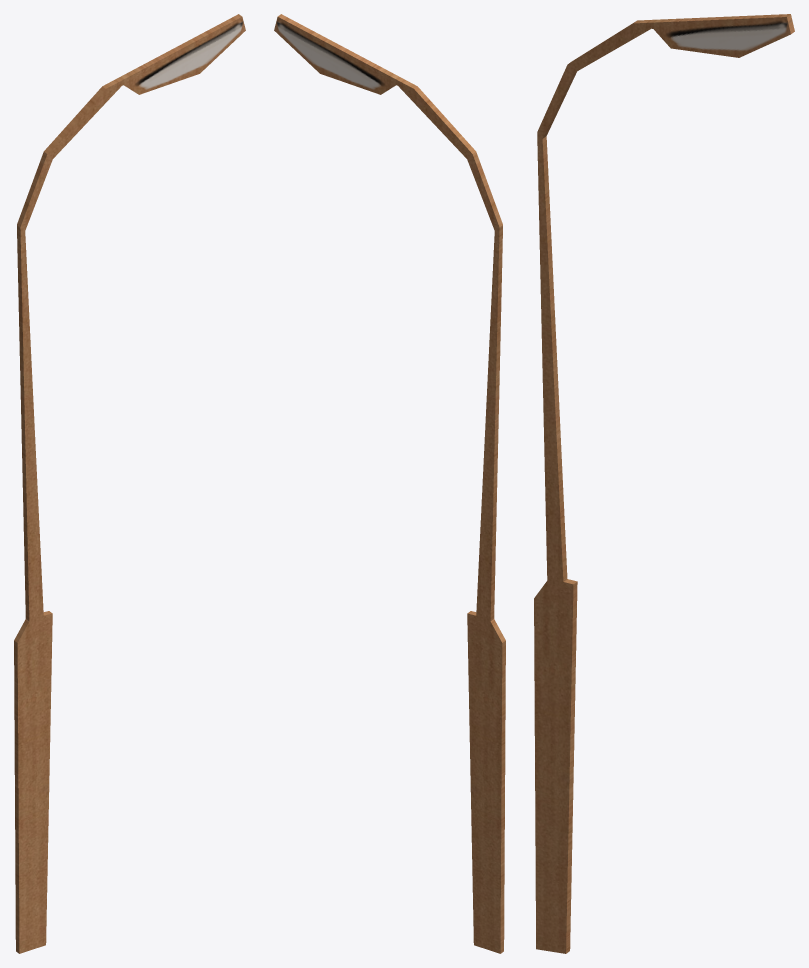
The model's file is lightpole.FBX.
3 renders of one model, left to right at view 1: azimuth 30°, elevation 25°; view 2: azimuth 150°, elevation 25°; view 3: azimuth 330°, elevation 25°, orthographic. The views are drawn at different scales.
Parts seen in each view (by area): view 1: lightpole; view 2: lightpole; view 3: lightpole.
Part boxes in pixels (x1,y1,x2,y2): lightpole: [14, 14, 245, 953]; lightpole: [274, 14, 505, 953]; lightpole: [534, 14, 794, 953].
Bounding box in the file's own units: 256 × 947 × 7.
Materials: 1 (1 with a texture image).
